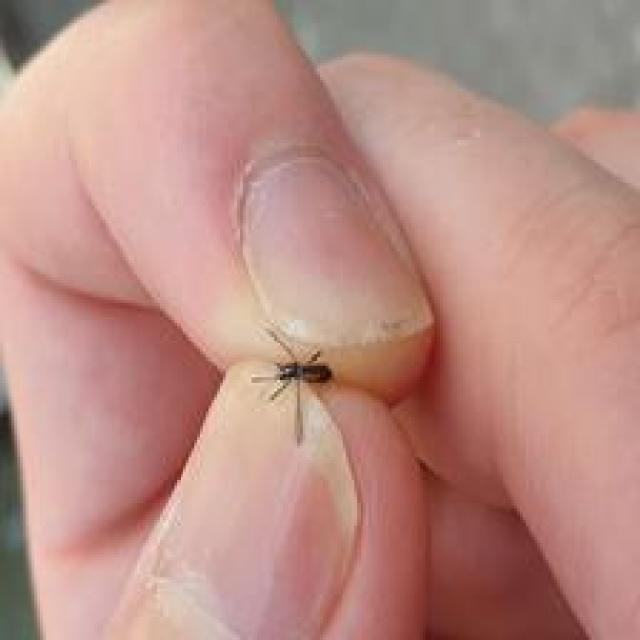Aedes albopictus: (249, 326, 334, 446)
